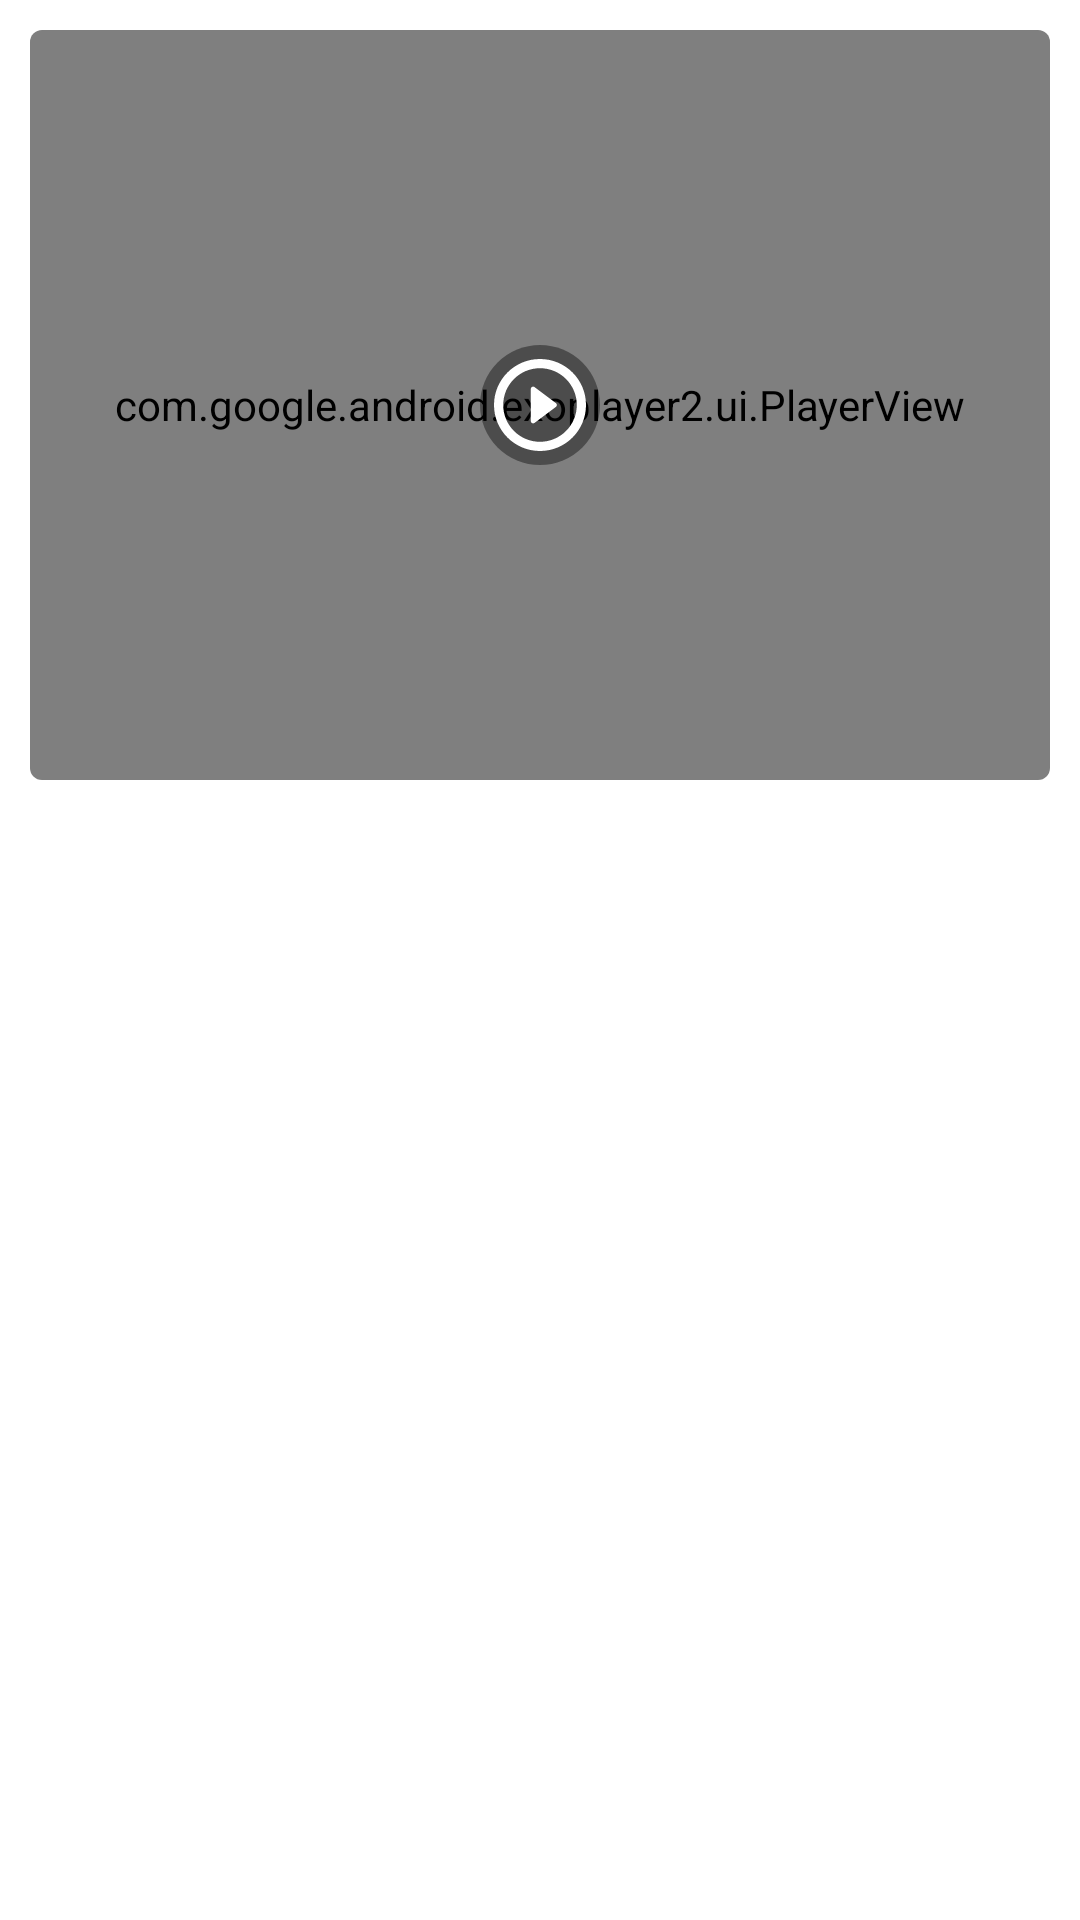

Screen size 1080x1920. Icon name, then its box in pixels as rect(x1, y1, x2, y2):
play video: rect(480, 345, 600, 465)
